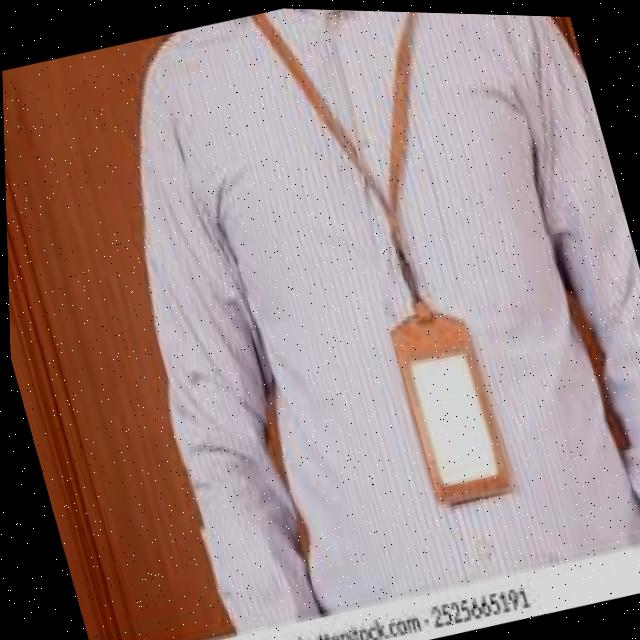id_card: (253, 6, 545, 523)
